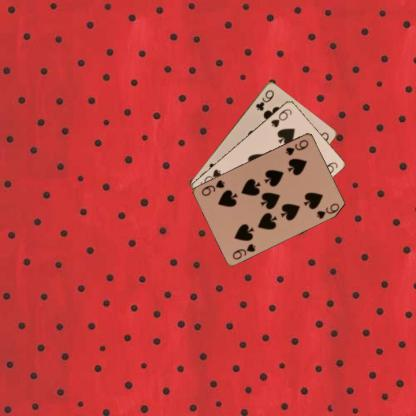6s: (269, 106, 293, 129)
9c: (253, 87, 275, 112)
9s: (282, 137, 310, 157), (230, 241, 256, 261)
